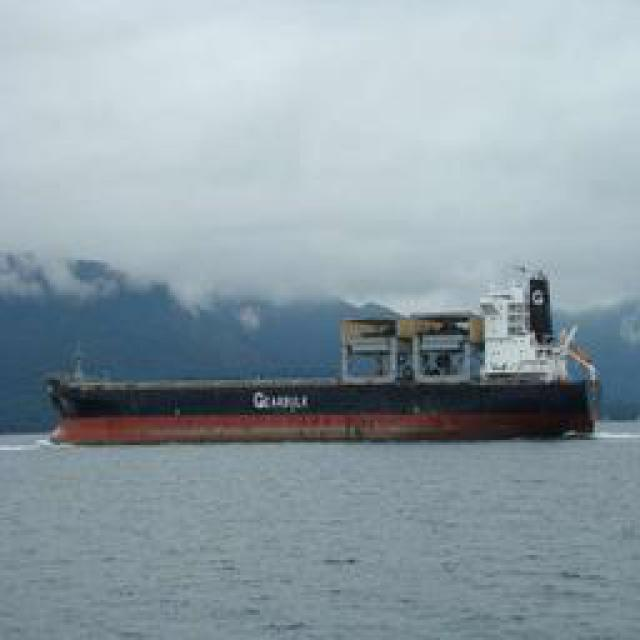Ship: (53, 334, 591, 447)
